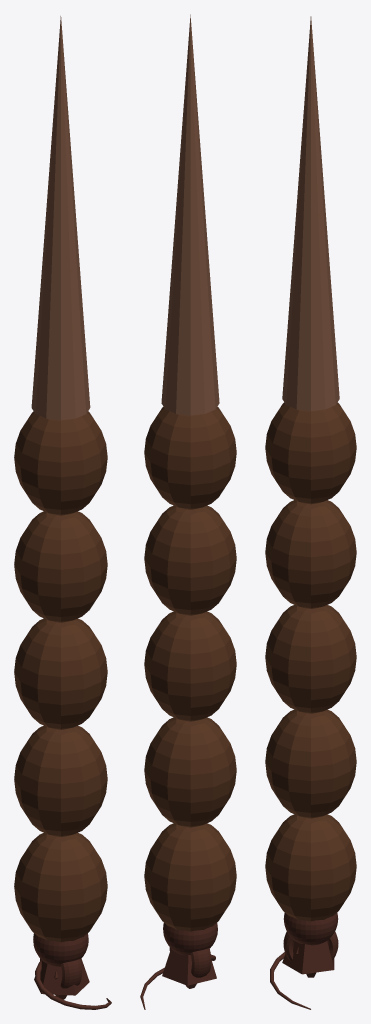
File: Wand 227.glb
3 renders of one model, left to right at view 1: azimuth 30°, elevation 25°; view 2: azimuth 210°, elevation 25°; view 3: azimuth 270°, elevation 25°, orthographic. The views are drawn at different scales.
Visible parts, largest first — view 1: GeneratedWand, Pommel_4, Pommel_9, Pommel_10, Pommel_2; view 2: GeneratedWand, Pommel_4, Pommel_9, Pommel_2; view 3: GeneratedWand, Pommel_9, Pommel_4, Pommel_2, Pommel_10.
Part boxes in pixels (x1,y1,x2,y2): GeneratedWand: (14,16,107,942); Pommel_4: (33,933,88,966); Pommel_9: (34,958,89,995); Pommel_10: (35,960,111,1009); Pommel_2: (40,958,81,988); GeneratedWand: (144,14,236,931); Pommel_4: (163,922,217,955); Pommel_9: (162,948,216,985); Pommel_2: (169,947,211,977); GeneratedWand: (265,16,356,921); Pommel_9: (282,941,334,974); Pommel_4: (283,912,338,945); Pommel_2: (283,931,338,960); Pommel_10: (270,952,310,1009).
Size of the model in its own units: 0.0481 by 0.5274 by 0.0449.
